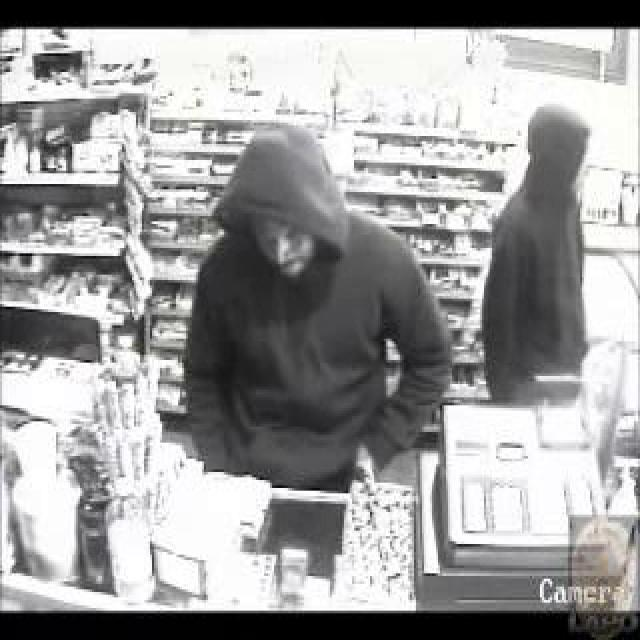robbery: (217, 18, 573, 547)
